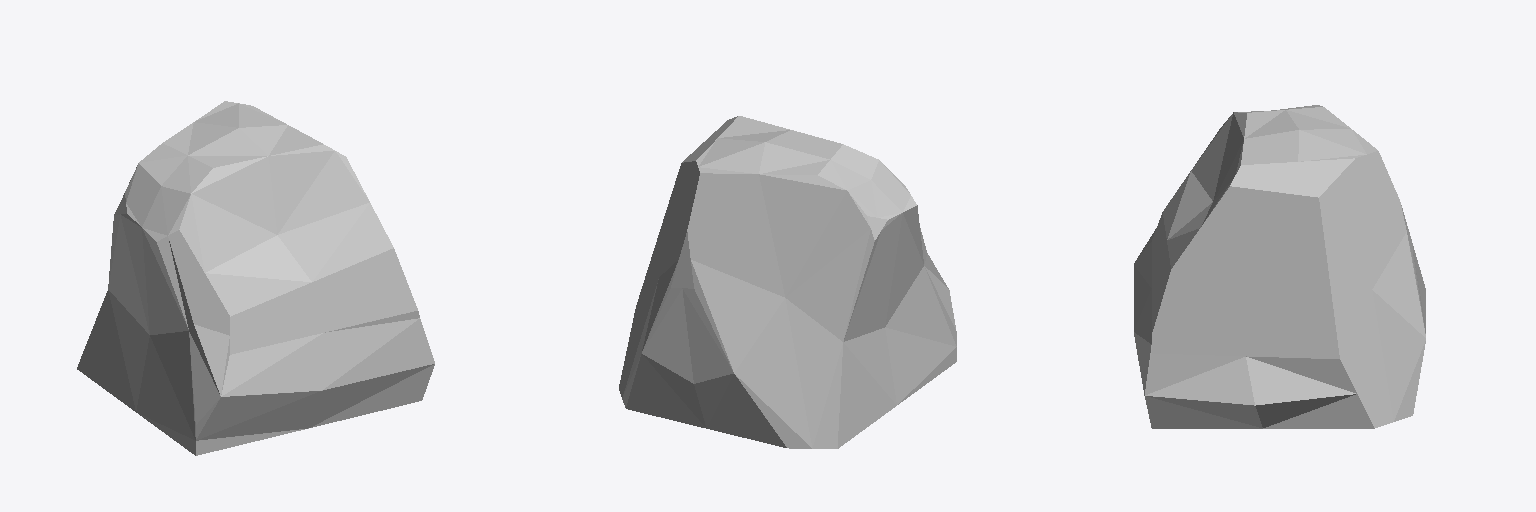
File: Rock_01_Hite.obj
The picture shows the model from 3 angles: view 1: azimuth 30°, elevation 25°; view 2: azimuth 150°, elevation 25°; view 3: azimuth 270°, elevation 25°; orthographic projection.
Parts seen in each view (by area): view 1: pCube1; view 2: pCube1; view 3: pCube1.
Boxes of the visible parts, box(x1,y1,x2,y2) form: pCube1: box(77, 101, 434, 455); pCube1: box(619, 116, 956, 448); pCube1: box(1134, 105, 1425, 428).
Bounding box in the file's own units: 8.94 × 8.42 × 9.1.